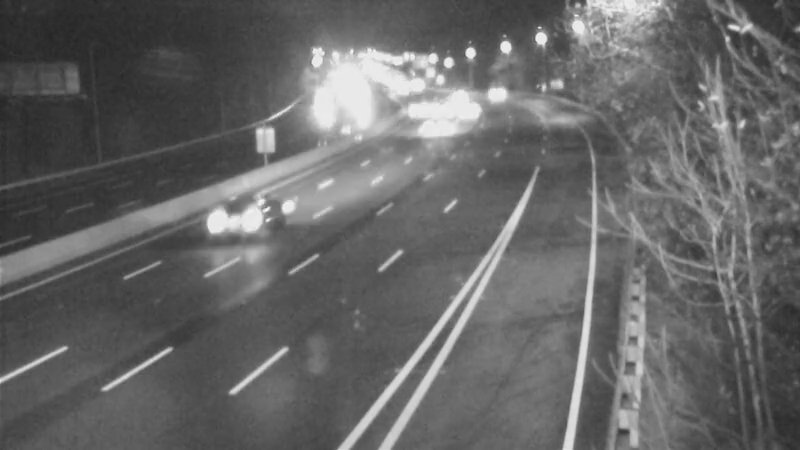vehicle: (198, 182, 278, 262), (431, 72, 481, 122), (470, 69, 520, 119), (442, 87, 492, 137), (414, 82, 464, 132), (394, 84, 444, 134), (413, 104, 463, 154)
